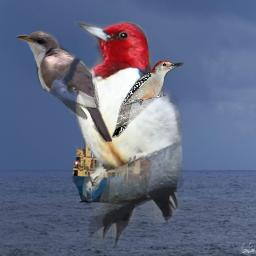Cuckoo: (14, 28, 112, 146)
Woodpecker: (70, 21, 187, 254), (112, 60, 184, 138)
